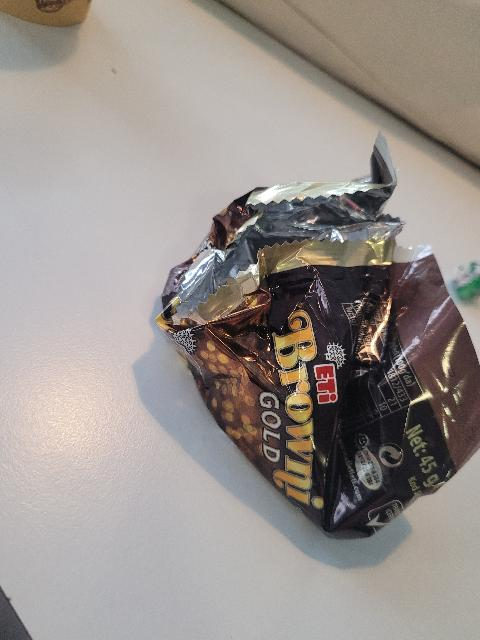Plastik: (140, 116, 480, 562)
